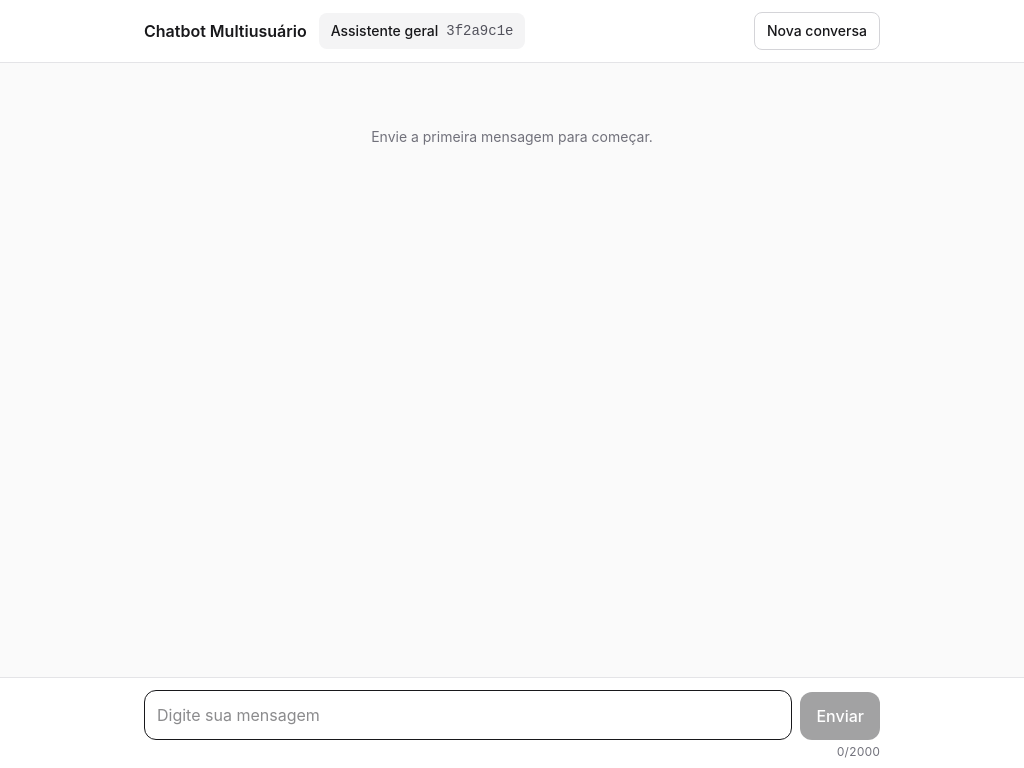
Test: erros e sessão expirada › 404 durante o chat leva ao mesmo fluxo de sessão expirada
Type "Oi" into the text box labelled "mensagem" at (468, 715), box [144,690,792,740]
Then press Enter
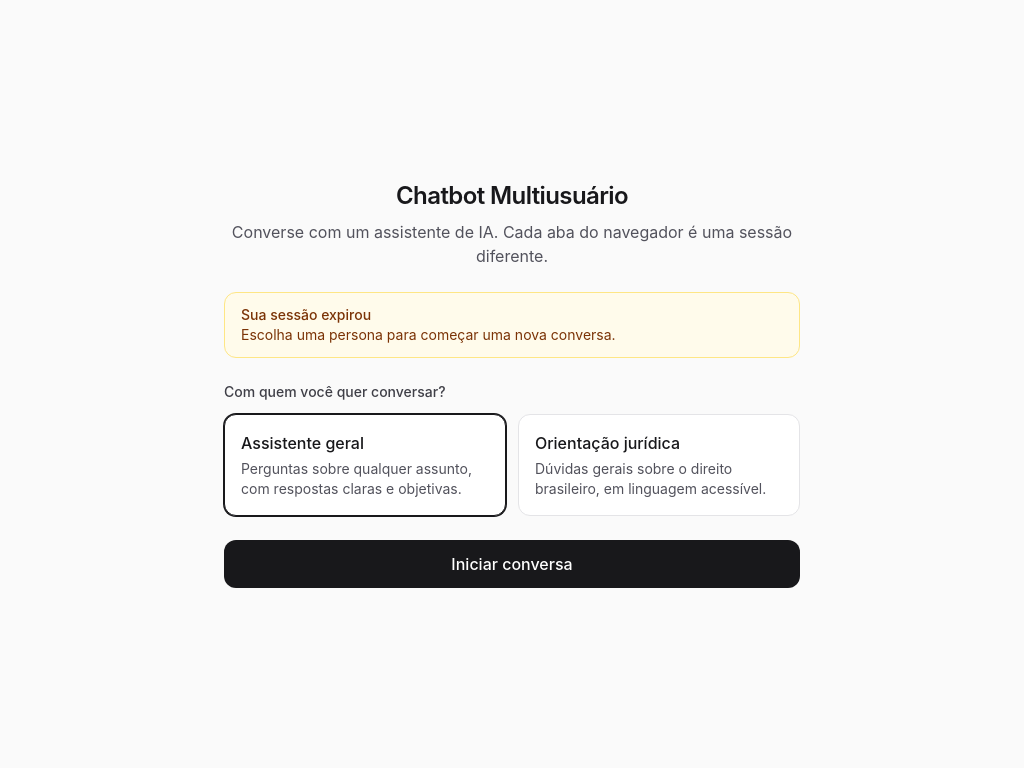
Check: the text "Sua sessão expirou" is shown, box [241,306,371,323]
